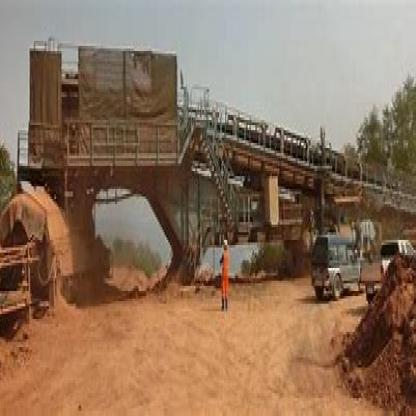person: (214, 220, 233, 329)
